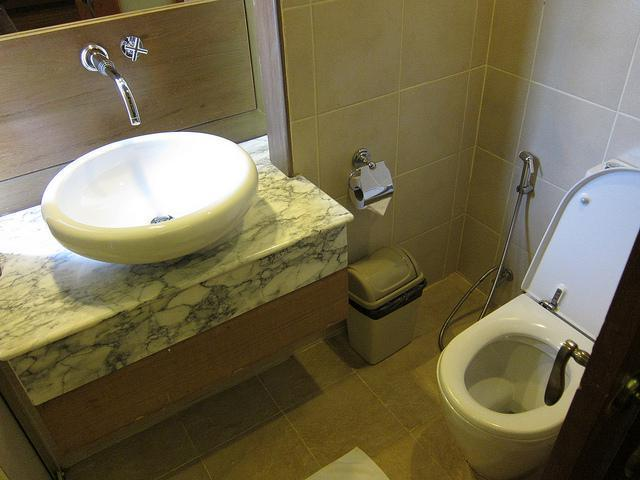Bote de Basura: (338, 241, 429, 366)
Lavamanos: (35, 39, 270, 274)
